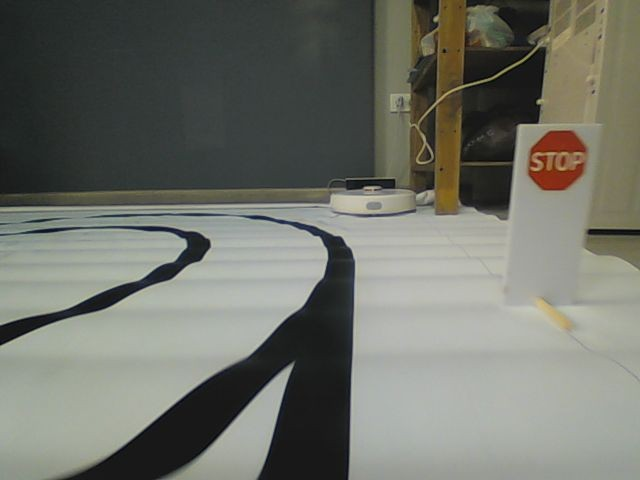Stop: (525, 128, 587, 193)
